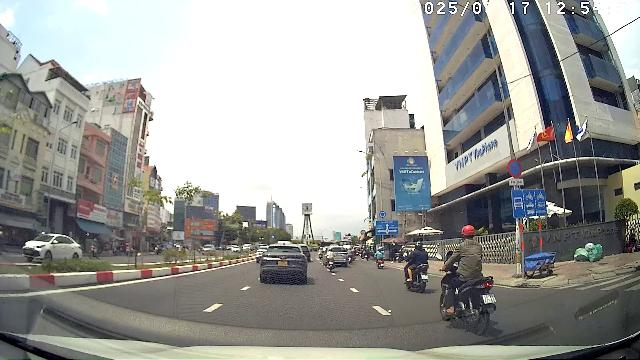131a-cam-do-xe: (508, 159, 523, 178)
303-noi-giao-nhau-chay-theo-vong-xuyen: (379, 211, 387, 218)
